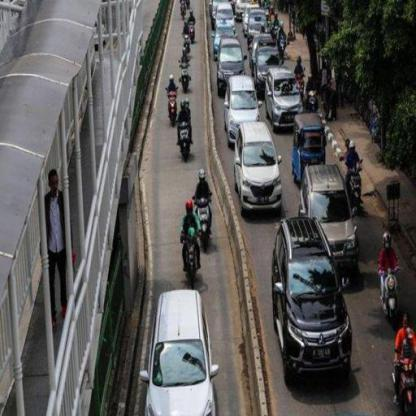car: (268, 215, 353, 386), (140, 287, 222, 415), (297, 164, 357, 276), (233, 122, 282, 214), (220, 72, 261, 138), (265, 66, 301, 126), (216, 36, 243, 87)
motorbike: (389, 347, 415, 415), (376, 265, 402, 320), (180, 235, 204, 284), (197, 196, 216, 244), (348, 162, 368, 206), (178, 120, 195, 158), (166, 88, 178, 124), (180, 61, 192, 93)
